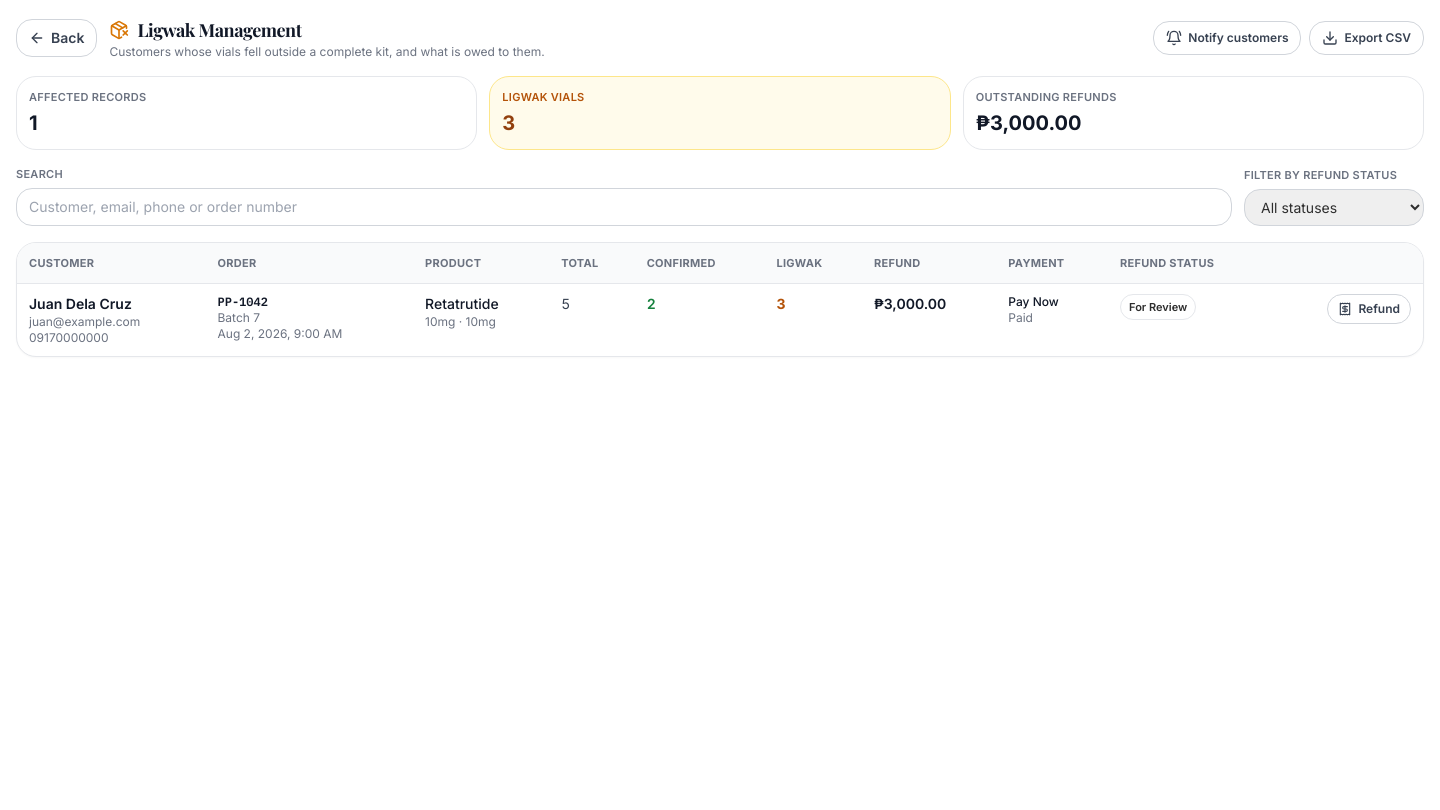
Scenario: LigwakManager › opens the refund modal for a record
This screenshot has width=1440, height=810.
Step 1. Click the button "Refund" → [1369, 309], box [1327,294,1411,324]
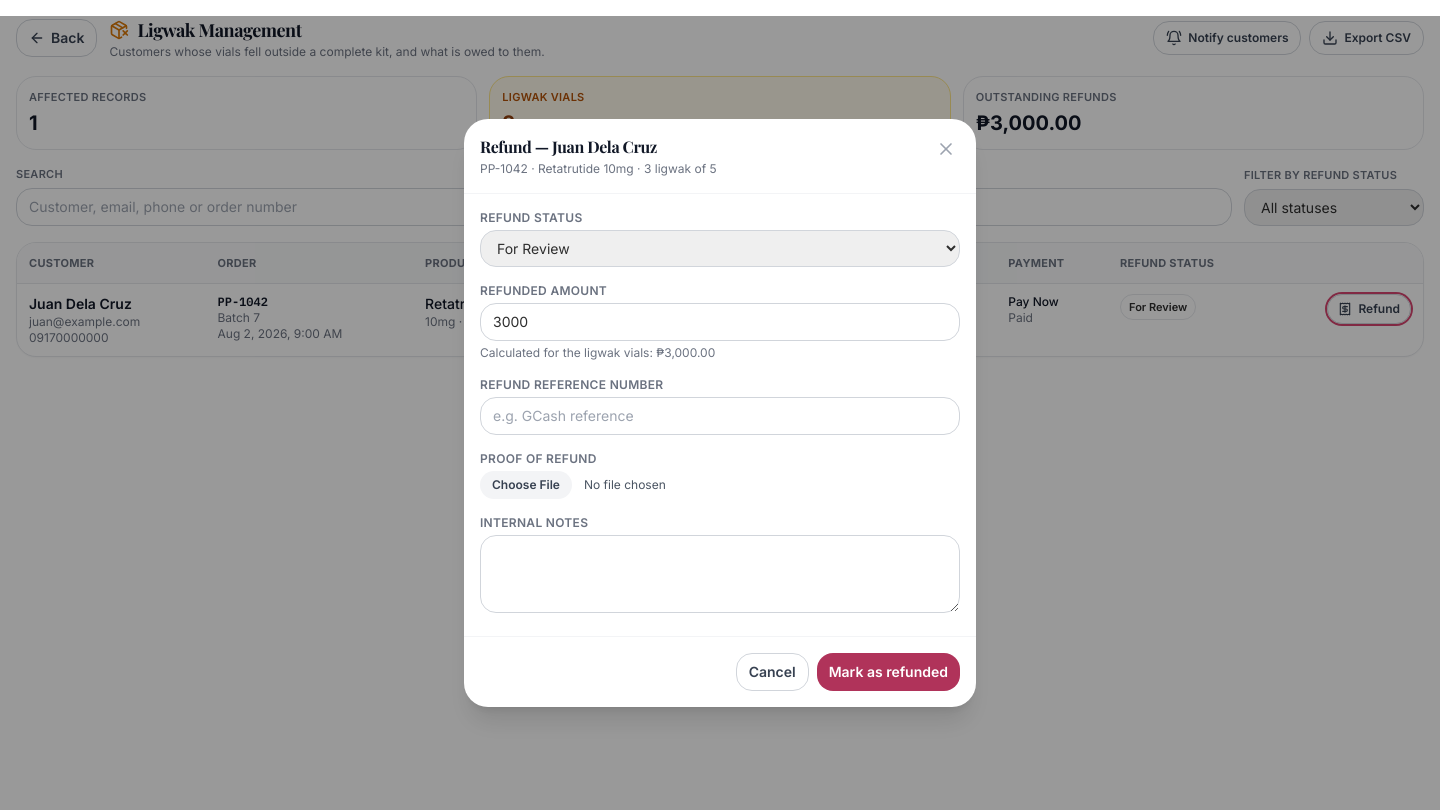
Result: the dialog is shown
